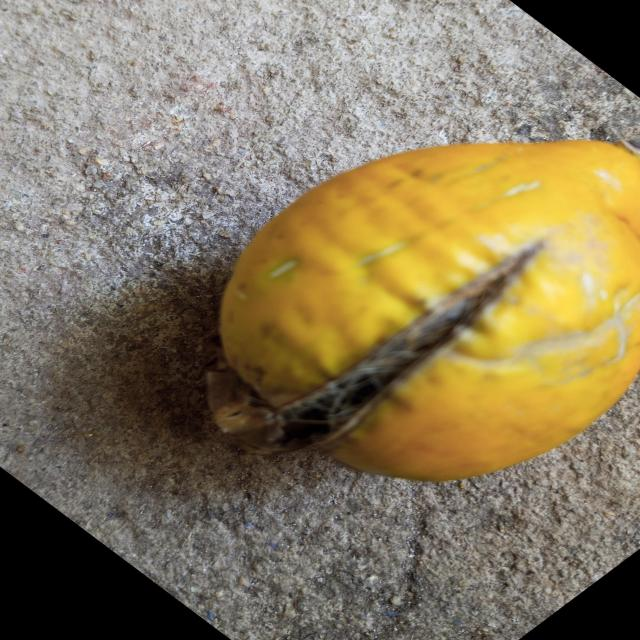damaged: (209, 140, 640, 484)
